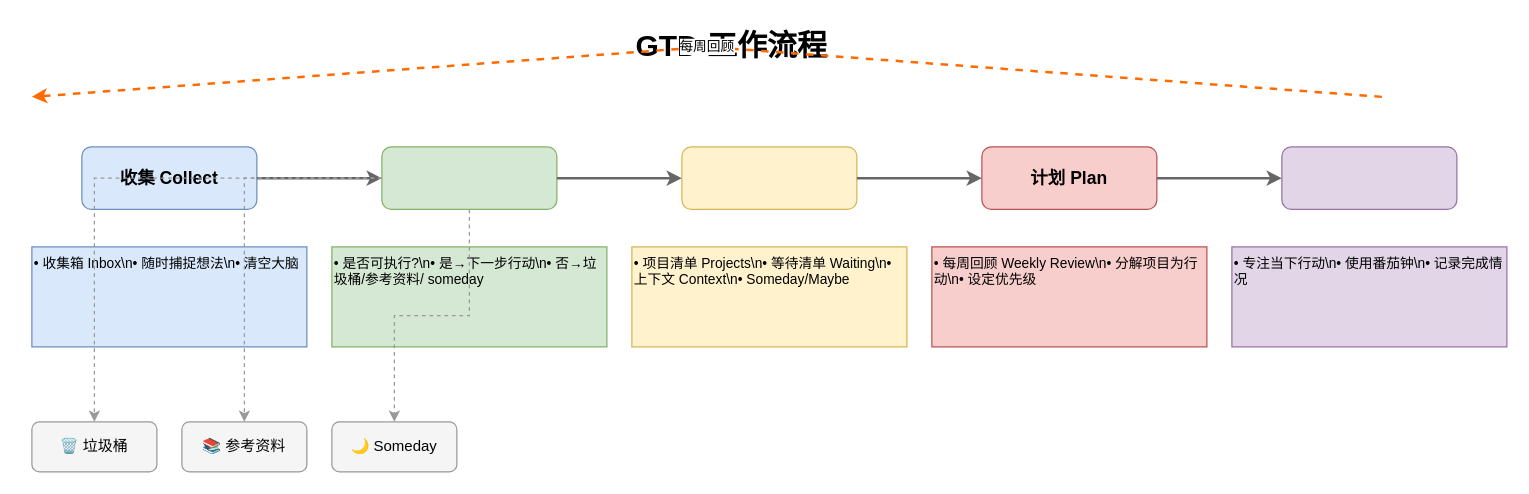
Image size: 1529x494. Some labels were removed from this diagram. The shapes that lost their labels are listed below. From the top down, each one's centre as x and y in pixels, then its label:
At (469,177): "整理 Process".
At (769,177): "组织 Organize".
At (1369,177): "执行 Do".
